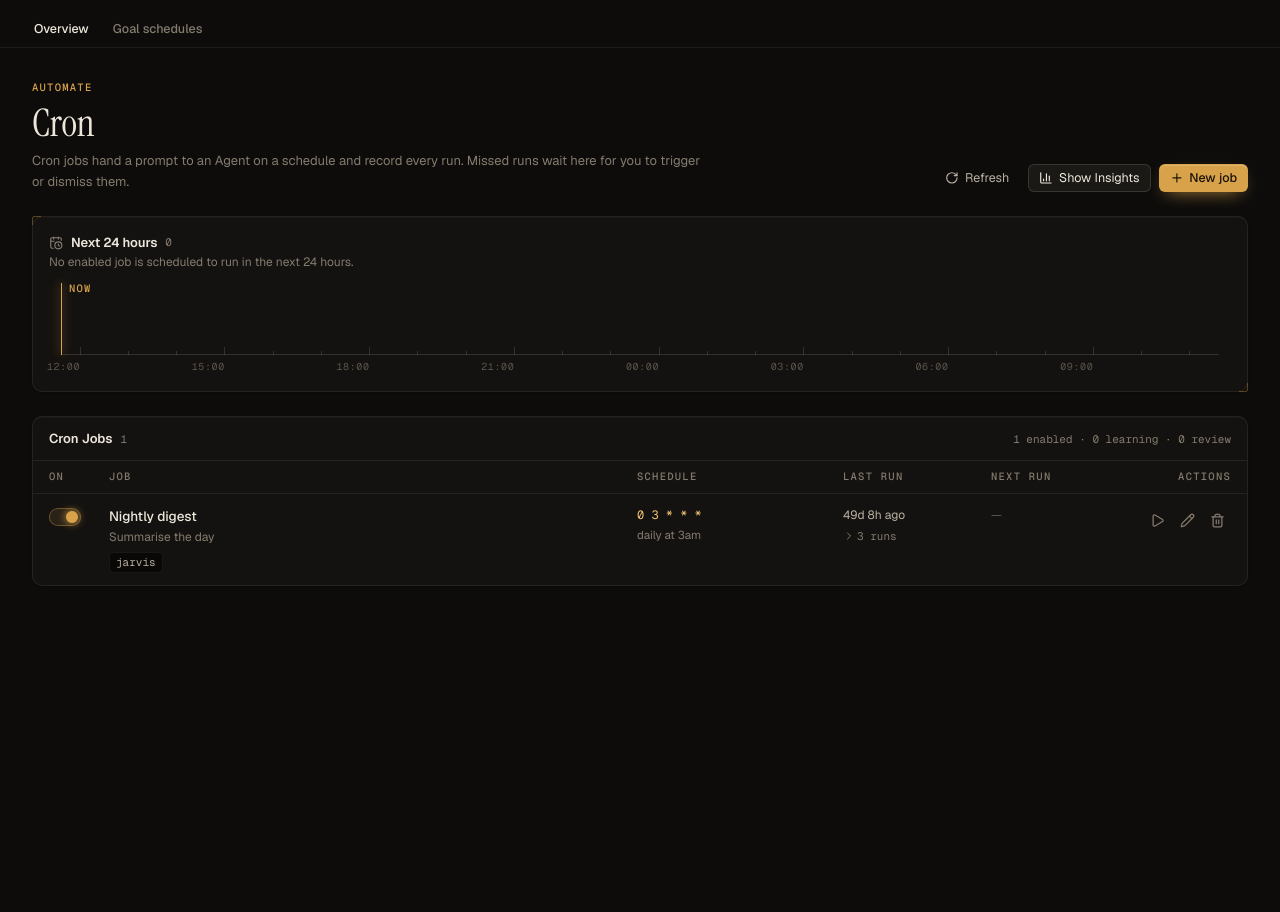
Test case: Cron page states › opens a job's history in a side panel, shows its outcome in the row, and closes it
This screenshot has width=1280, height=912.
Click the button "3 runs" at (870, 536), box [843,528,897,545]
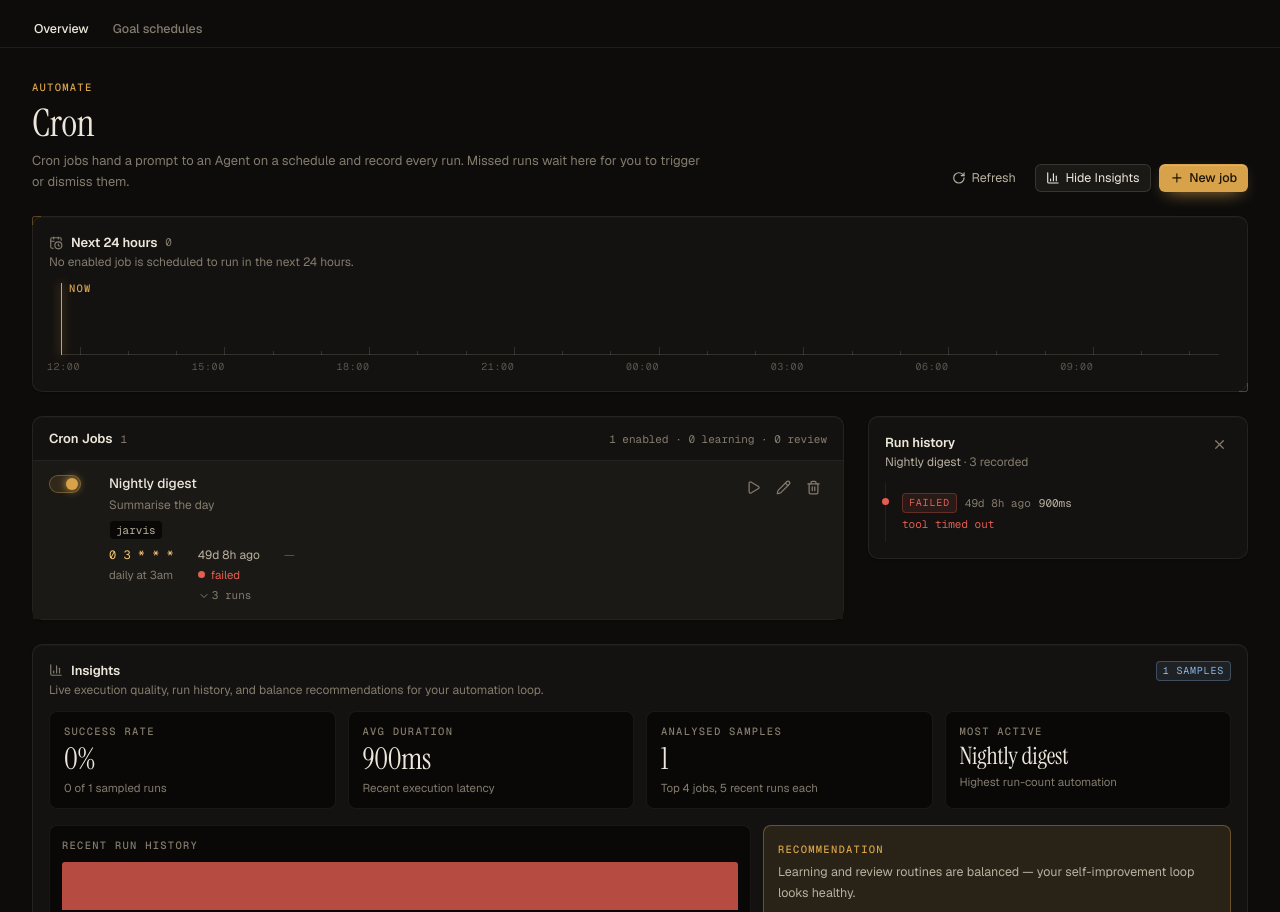
expect the button "3 runs" is expanded: met, box [198,587,251,604]
expect the text "tool timed out" is shown: met, box [902,517,994,531]
expect the element named "Run history for Nightly digest" shows "failed": met, box [909,496,950,509]
Click the button named "Close run history" at (1219, 445), box [1207,433,1231,457]
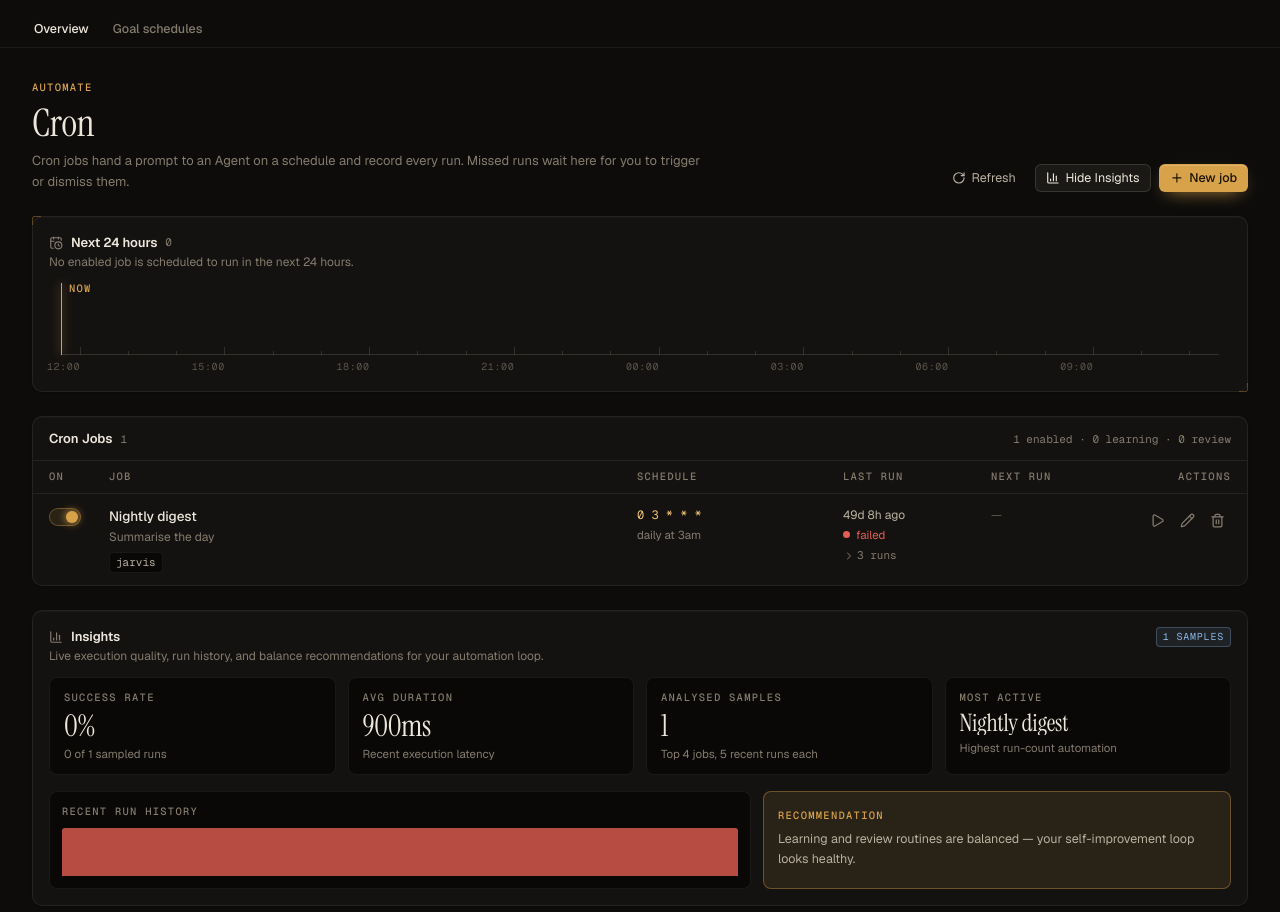
expect the button "3 runs" is collapsed: met, box [843,547,897,564]
